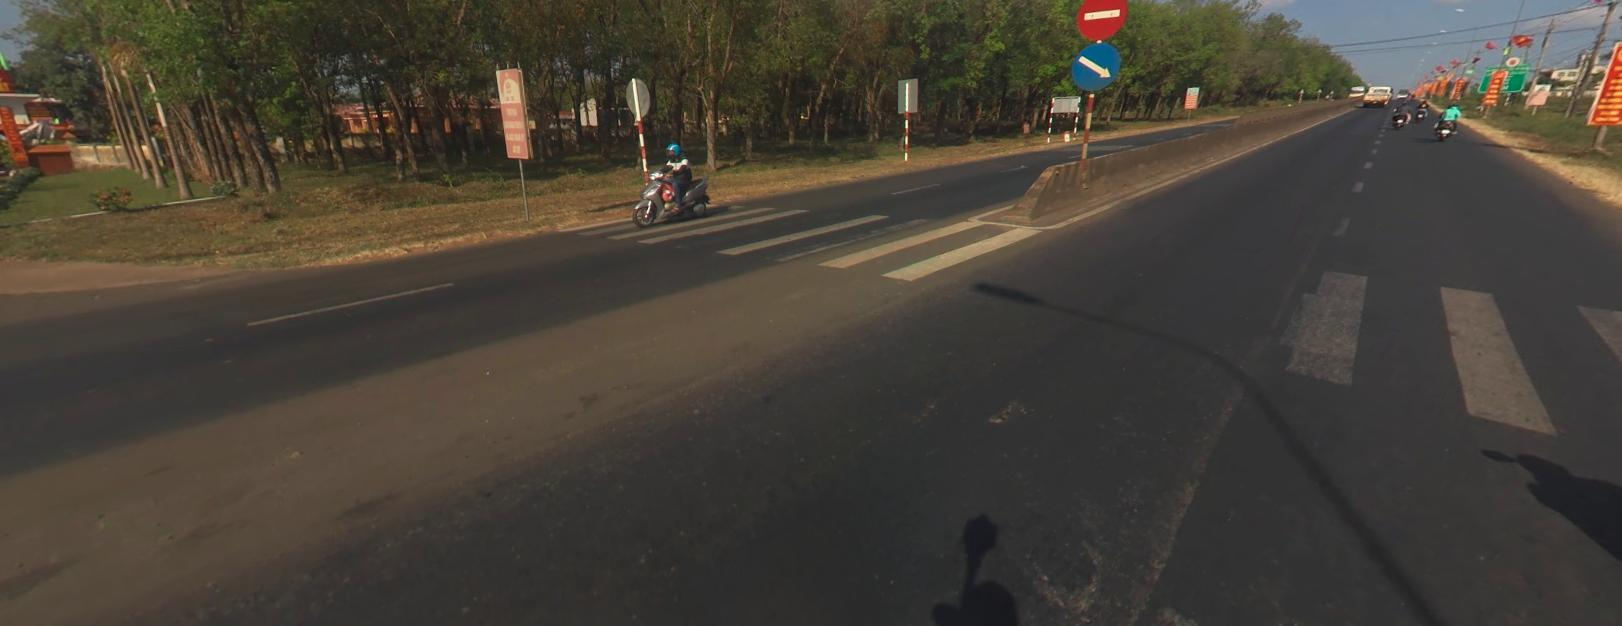Cam nguoc chieu: (1074, 0, 1128, 40)
Hieu lenh: (1069, 40, 1121, 90)
